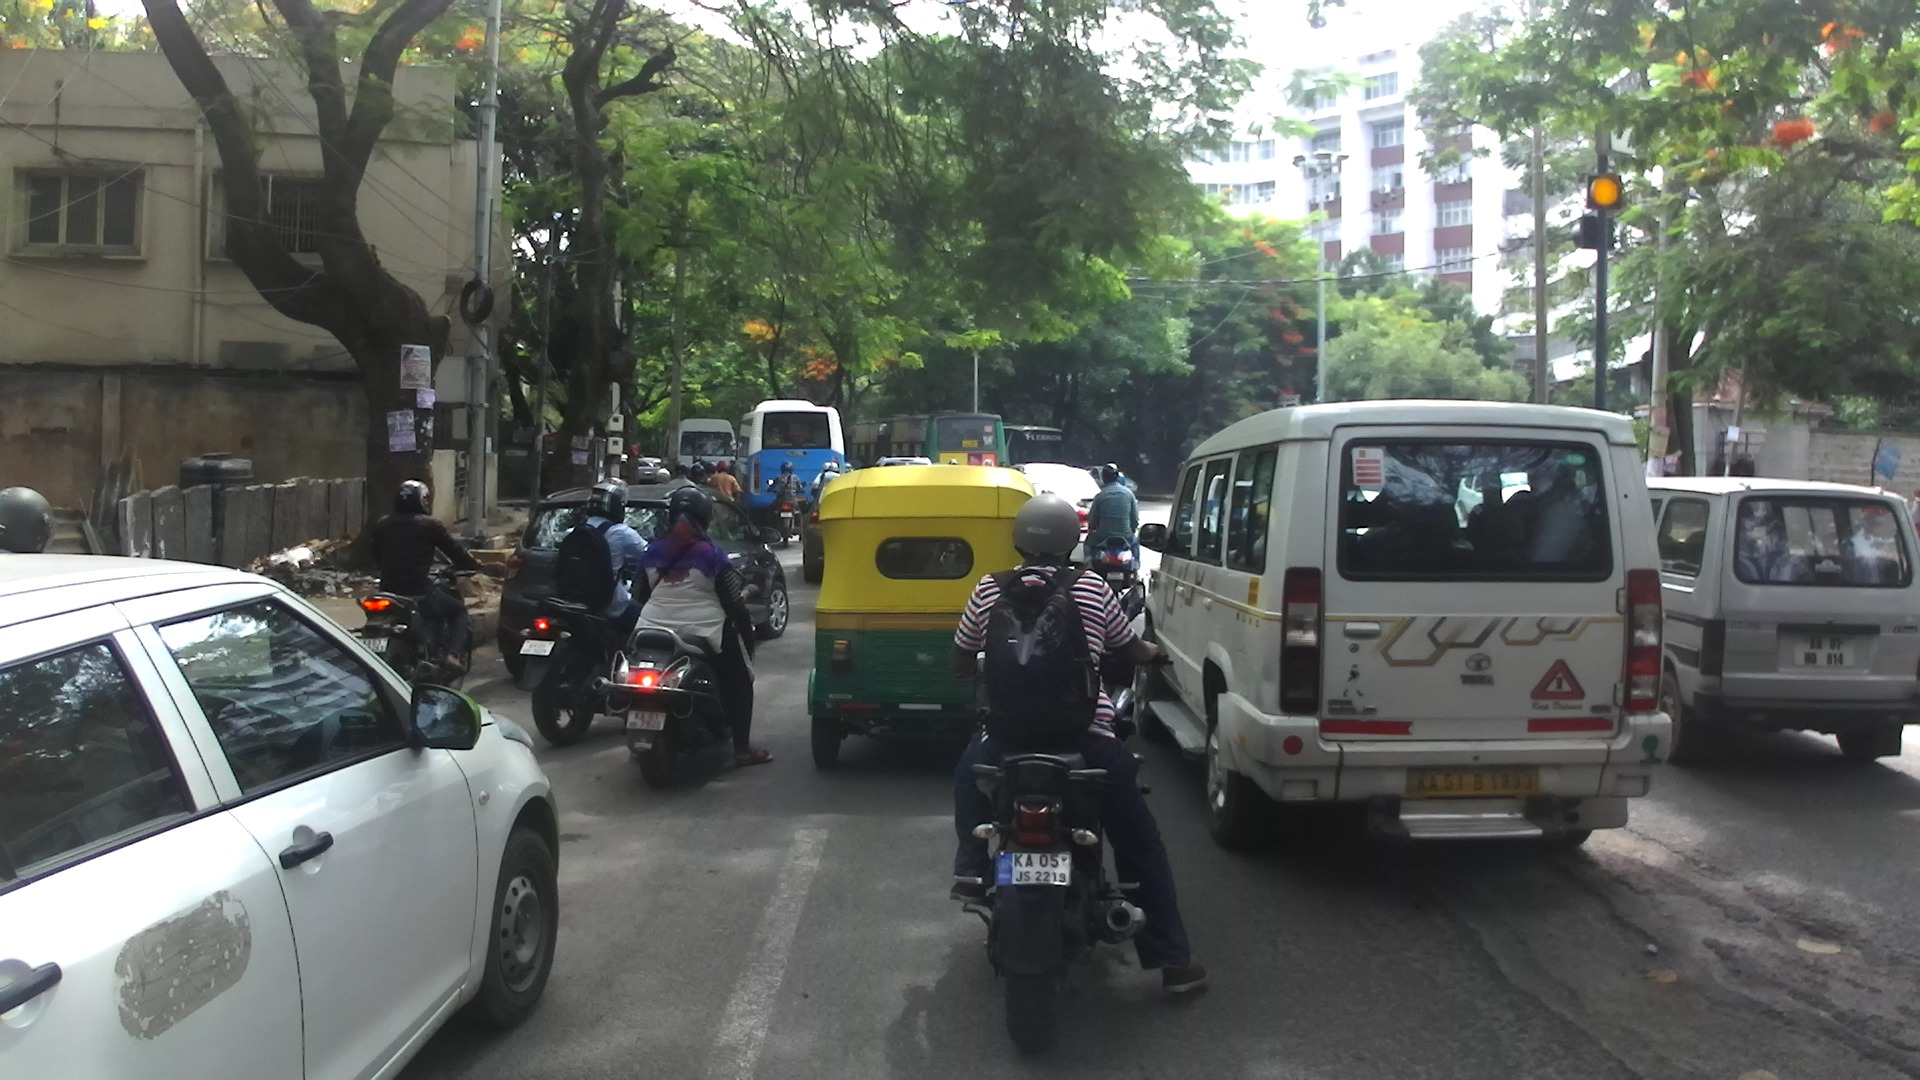autorickshaw: (809, 474, 1036, 773)
bus: (732, 400, 846, 526), (841, 409, 1007, 472), (659, 418, 739, 498), (990, 423, 1066, 474)
car: (1, 555, 563, 1079), (1135, 399, 1674, 849), (1630, 476, 1920, 763), (497, 483, 790, 683), (1004, 463, 1100, 552), (1069, 456, 1141, 507), (801, 479, 833, 585), (636, 457, 668, 486), (878, 456, 937, 470), (619, 451, 634, 481)
motorcycle: (954, 625, 1176, 1052), (604, 542, 776, 788), (516, 560, 663, 747), (345, 557, 483, 700), (1074, 511, 1145, 603), (760, 476, 806, 546)
rider: (950, 495, 1206, 976), (631, 484, 778, 764), (371, 477, 483, 673), (554, 476, 653, 634), (1083, 463, 1138, 577), (1, 484, 56, 555), (802, 458, 849, 529), (766, 460, 799, 522), (708, 460, 746, 501), (1103, 466, 1126, 491), (648, 463, 672, 487), (699, 458, 716, 487), (688, 462, 706, 485), (674, 462, 691, 485), (690, 453, 703, 471), (944, 458, 960, 467)
traffic light: (1582, 175, 1630, 216)
